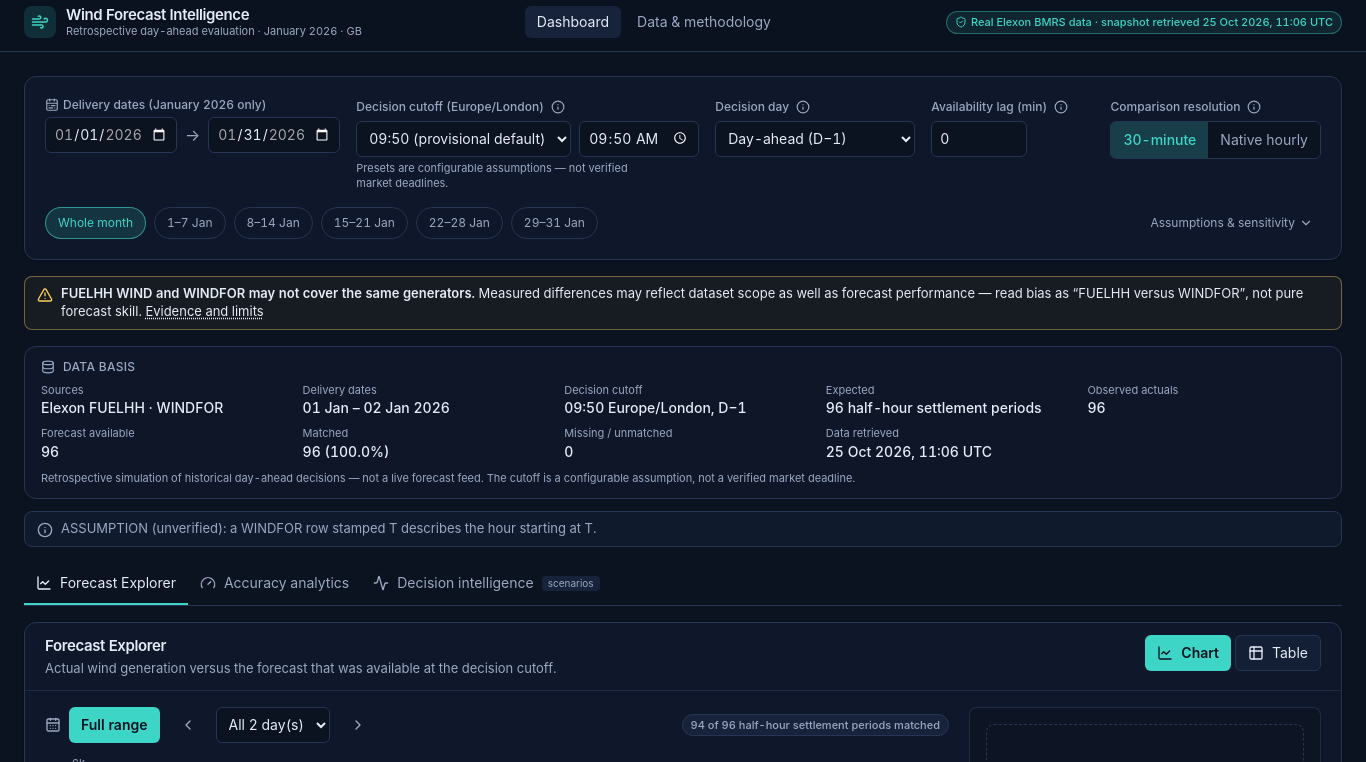
it: actual-versus-forecast visualisation › offers an accessible table with explicit 'unavailable' / 'missing' / 0 values
Click the button "Table" at (1278, 653), box [1235,635,1321,671]
(page scrolled)
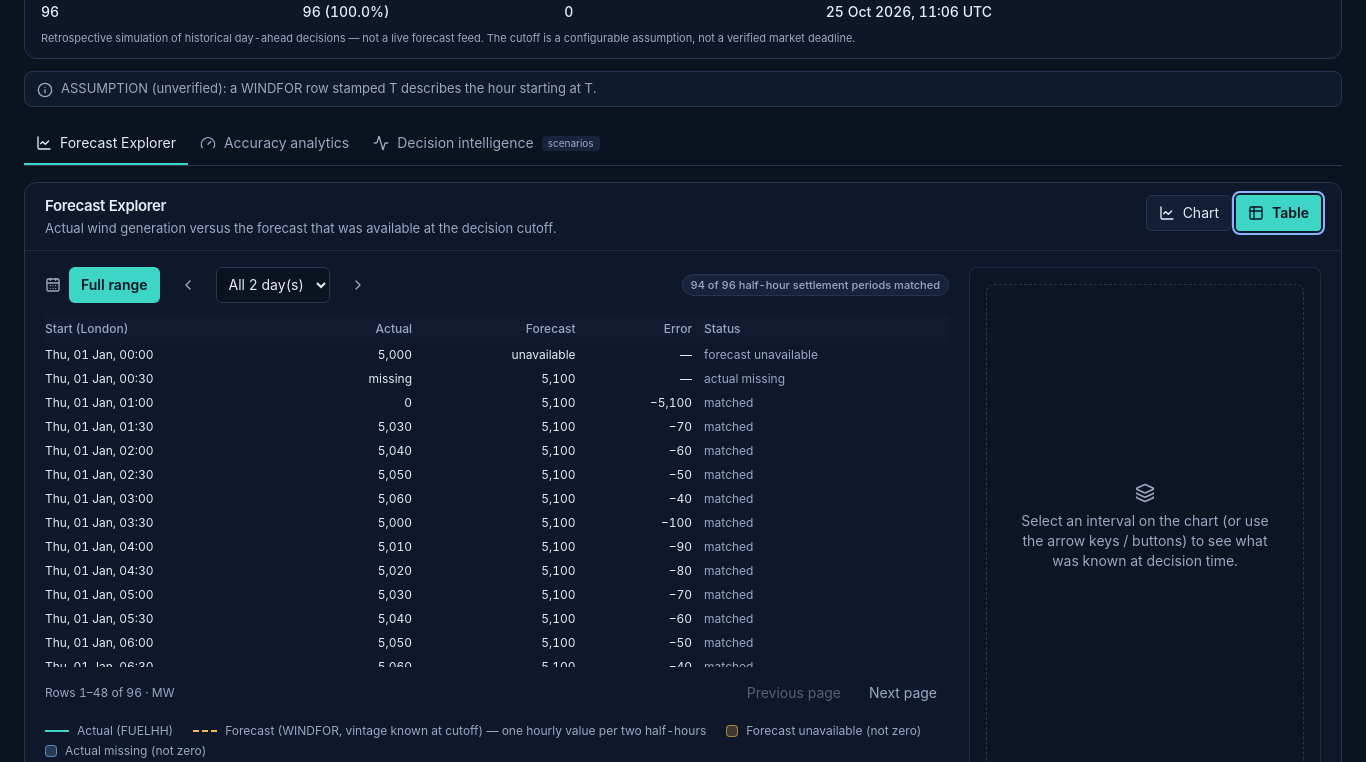
Result: the cell "unavailable" is shown at [424,343,588,367]
Result: the cell "missing" is shown at [305,367,424,391]
